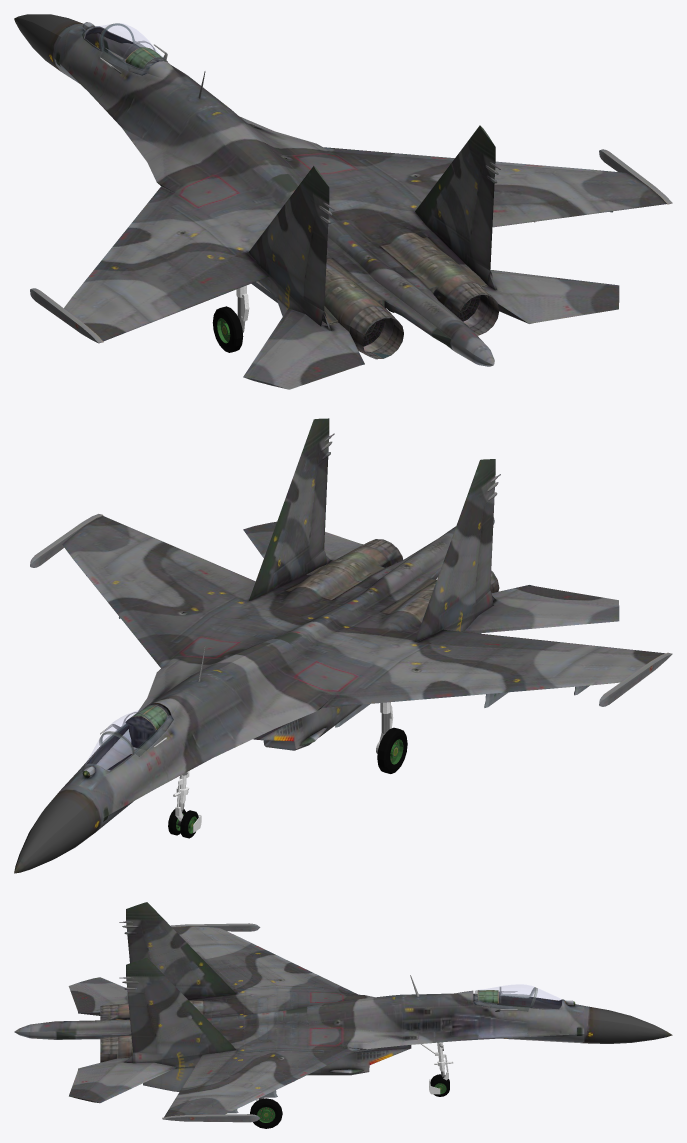
The picture shows the model from 3 angles, top to bottom: view 1: azimuth 30°, elevation 25°; view 2: azimuth 150°, elevation 25°; view 3: azimuth 270°, elevation 25°; orthographic projection. The views are drawn at different scales.
Visible parts, largest first — view 1: airframe, elevator_l, elevator_r, aileron_l, speedbrake, rudder_r, rudder_l, aileron_r, canopy, gear_UC_Main_Left_Tyre, nozzle; view 2: airframe, elevator_l, aileron_r, aileron_l, speedbrake, elevator_r, rudder_l, rudder_r, canopy, gear_UC_Main_Left_Tyre; view 3: airframe, elevator_r, elevator_l, rudder_r, aileron_r, canopy, speedbrake, gear_UC_Main_Right_Tyre, rudder_l.
Part boxes in pixels (x1=…): airframe: x1=14, y1=14, x2=672, y2=366; elevator_l: x1=243, y1=308, x2=364, y2=389; elevator_r: x1=482, y1=269, x2=619, y2=323; aileron_l: x1=152, y1=250, x2=269, y2=316; speedbrake: x1=198, y1=107, x2=292, y2=181; rudder_r: x1=470, y1=175, x2=494, y2=270; rudder_l: x1=303, y1=215, x2=328, y2=310; aileron_r: x1=414, y1=202, x2=582, y2=227; canopy: x1=98, y1=23, x2=166, y2=74; gear_UC_Main_Left_Tyre: x1=212, y1=306, x2=243, y2=352; nozzle: x1=363, y1=295, x2=480, y2=346; airframe: x1=14, y1=418, x2=672, y2=873; elevator_l: x1=464, y1=585, x2=619, y2=633; aileron_r: x1=152, y1=542, x2=255, y2=601; aileron_l: x1=414, y1=629, x2=582, y2=651; speedbrake: x1=198, y1=638, x2=292, y2=679; elevator_r: x1=243, y1=521, x2=363, y2=563; rudder_l: x1=475, y1=497, x2=494, y2=603; rudder_r: x1=309, y1=457, x2=328, y2=562; canopy: x1=86, y1=704, x2=172, y2=762; gear_UC_Main_Left_Tyre: x1=377, y1=727, x2=407, y2=773; airframe: x1=14, y1=902, x2=672, y2=1122; elevator_r: x1=69, y1=1057, x2=176, y2=1103; elevator_l: x1=68, y1=977, x2=128, y2=1015; rudder_r: x1=127, y1=990, x2=156, y2=1053; aileron_r: x1=178, y1=1050, x2=238, y2=1093; canopy: x1=475, y1=985, x2=560, y2=1011; speedbrake: x1=307, y1=994, x2=401, y2=1014; gear_UC_Main_Right_Tyre: x1=250, y1=1098, x2=282, y2=1128; rudder_l: x1=127, y1=934, x2=149, y2=963.
Bounding box in the file's own units: 15.25 × 6.31 × 22.08.
7 materials, 4 textured.
